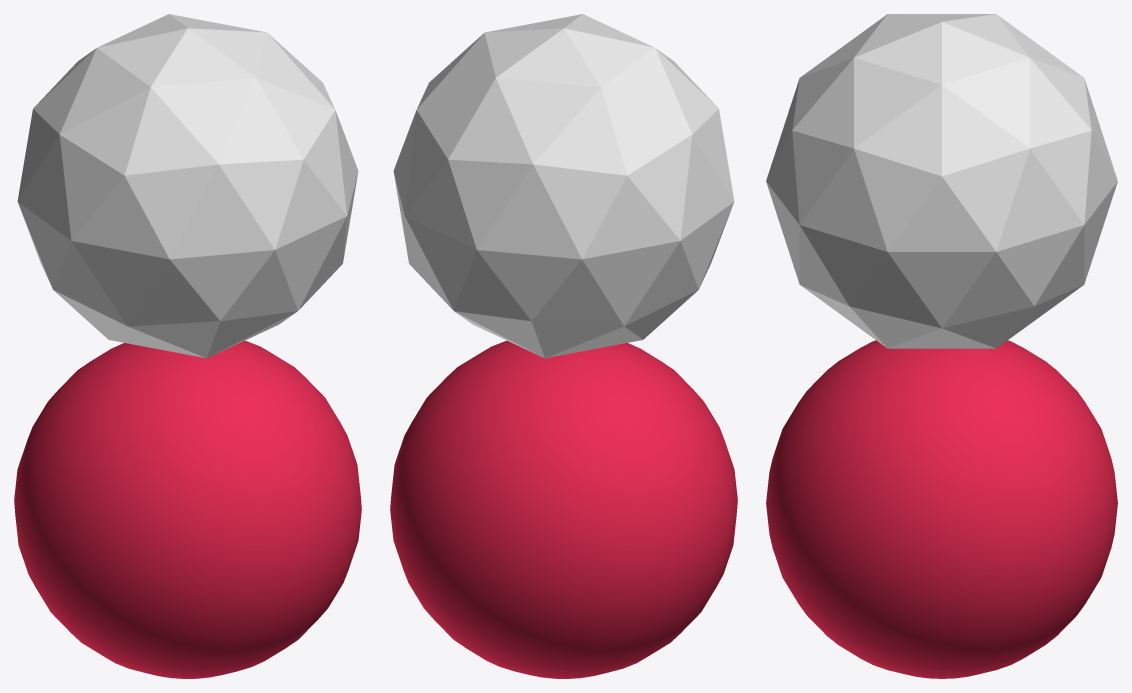
3 views of the same model, side by side, from view 1: azimuth 30°, elevation 25°; view 2: azimuth 150°, elevation 25°; view 3: azimuth 270°, elevation 25° (orthographic).
Parts seen in each view (by area): view 1: Sphere, Icosphere; view 2: Sphere, Icosphere; view 3: Sphere, Icosphere.
Boxes of the visible parts, x1=… form: Sphere: x1=14, y1=341, x2=361, y2=678; Icosphere: x1=17, y1=14, x2=358, y2=358; Sphere: x1=390, y1=341, x2=737, y2=678; Icosphere: x1=393, y1=14, x2=734, y2=358; Sphere: x1=766, y1=340, x2=1117, y2=678; Icosphere: x1=766, y1=14, x2=1117, y2=348.
Size of the model in its own units: 2 by 4.02 by 2.
